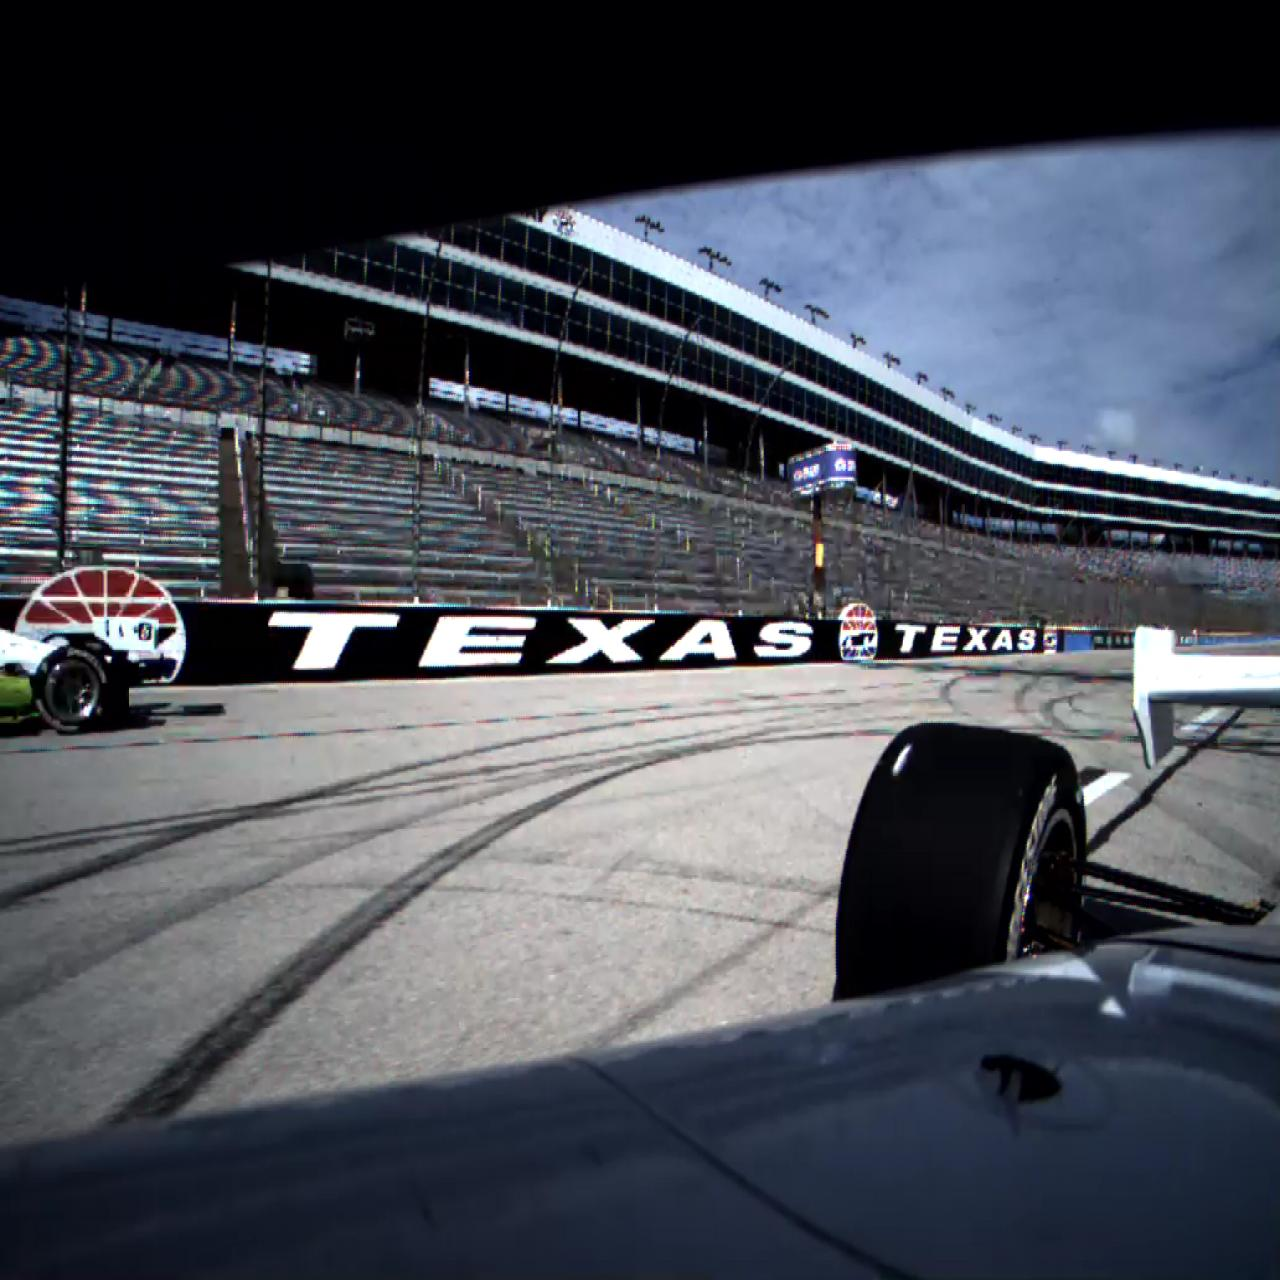Wheel: (836, 722, 1090, 1007), (34, 644, 112, 736)
